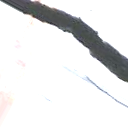crackTip: (1, 1, 127, 110)
